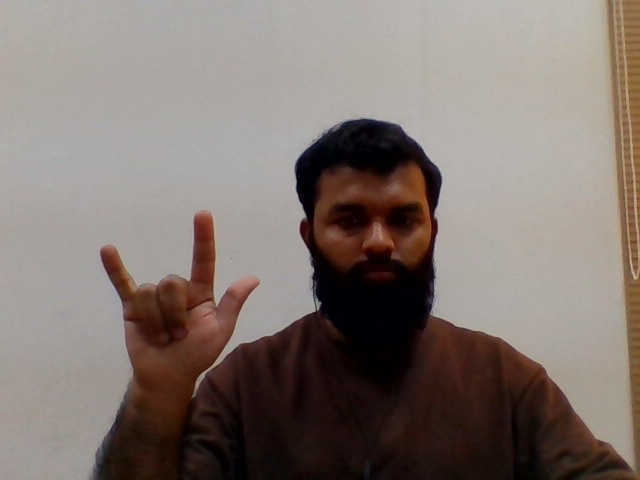I Love you: (93, 205, 265, 401)
